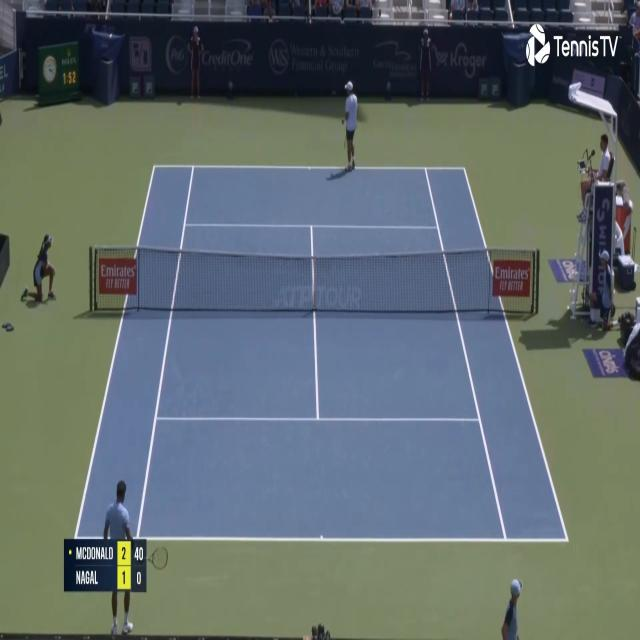tennis-player: (100, 479, 171, 634), (338, 76, 361, 178)
